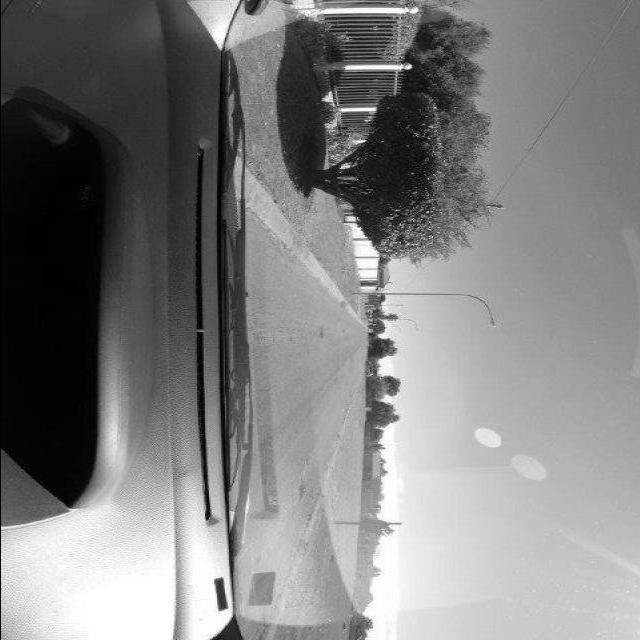lubang: (315, 319, 333, 338), (294, 479, 306, 504)
